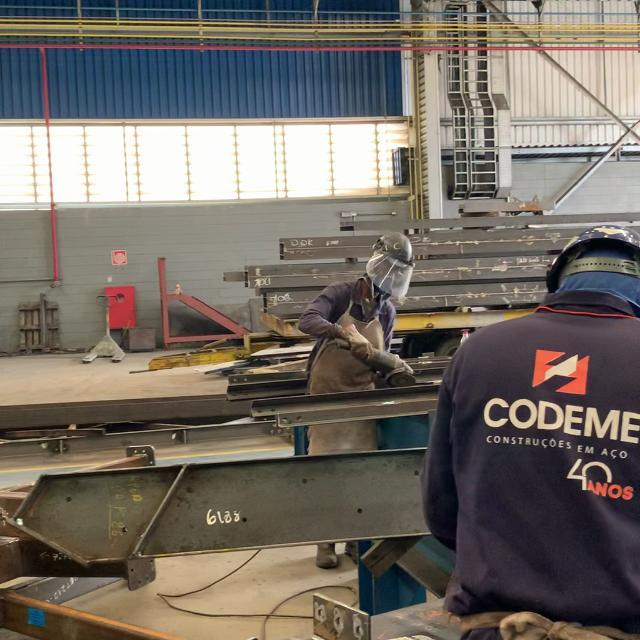eye-glass: (365, 252, 416, 307)
glove: (370, 231, 414, 268)
mask: (295, 234, 422, 384)
safety-shoe: (315, 544, 341, 570)
